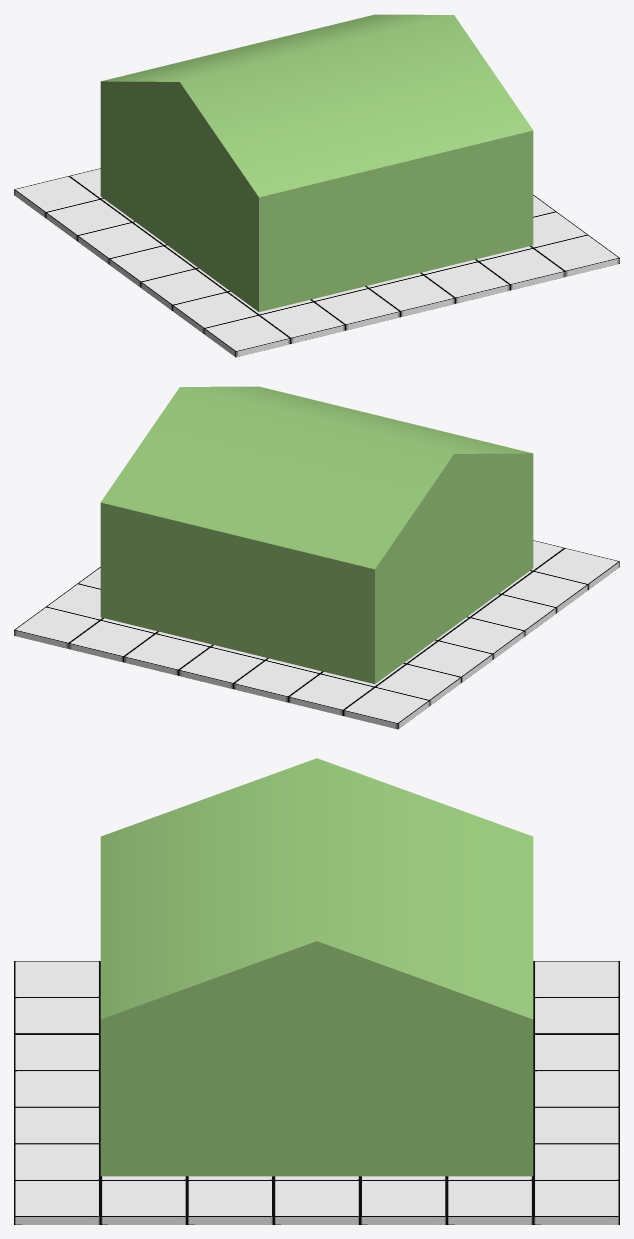
The model's file is XG_Medium-barn.glb.
3 views of the same model, one above another, from view 1: azimuth 30°, elevation 25°; view 2: azimuth 150°, elevation 25°; view 3: azimuth 270°, elevation 25° (orthographic). The views are drawn at different scales.
Parts seen in each view (by area): view 1: building_5m_5m_002, 1m_base_block_2904, 1m_base_block_2887, 1m_base_block_2889, 1m_base_block_2890, 1m_base_block_2888, 1m_base_block_2897, 1m_base_block_2886, 1m_base_block_2901, 1m_base_block_2898, 1m_base_block_2899, 1m_base_block_2903 (+4 smaller); view 2: building_5m_5m_002, 1m_base_block_2903, 1m_base_block_2882, 1m_base_block_2884, 1m_base_block_2885, 1m_base_block_2883, 1m_base_block_2896, 1m_base_block_2881, 1m_base_block_2899, 1m_base_block_2902, 1m_base_block_2901, 1m_base_block_2904 (+4 smaller); view 3: building_5m_5m_002, 1m_base_block_2893, 1m_base_block_2891, 1m_base_block_2892, 1m_base_block_2894, 1m_base_block_2895, 1m_base_block_2896, 1m_base_block_2897, 1m_base_block_2881, 1m_base_block_2883, 1m_base_block_2886, 1m_base_block_2888 (+8 smaller).
Boxes of the visible parts, x1,y1,x2,y2 form: building_5m_5m_002: [100, 14, 533, 312]; 1m_base_block_2904: [204, 315, 290, 357]; 1m_base_block_2887: [424, 261, 510, 303]; 1m_base_block_2889: [314, 288, 400, 330]; 1m_base_block_2890: [259, 302, 345, 343]; 1m_base_block_2888: [369, 275, 455, 317]; 1m_base_block_2897: [533, 235, 619, 276]; 1m_base_block_2886: [479, 248, 564, 290]; 1m_base_block_2901: [140, 269, 226, 310]; 1m_base_block_2898: [45, 199, 131, 240]; 1m_base_block_2899: [77, 222, 163, 264]; 1m_base_block_2903: [14, 176, 100, 217]; building_5m_5m_002: [100, 386, 533, 684]; 1m_base_block_2903: [343, 687, 429, 729]; 1m_base_block_2882: [123, 633, 209, 675]; 1m_base_block_2884: [233, 660, 319, 702]; 1m_base_block_2885: [288, 674, 374, 715]; 1m_base_block_2883: [178, 647, 264, 689]; 1m_base_block_2896: [14, 607, 100, 648]; 1m_base_block_2881: [69, 620, 154, 662]; 1m_base_block_2899: [407, 641, 493, 682]; 1m_base_block_2902: [502, 571, 588, 612]; 1m_base_block_2901: [470, 594, 556, 636]; 1m_base_block_2904: [533, 548, 619, 589]; building_5m_5m_002: [100, 758, 533, 1176]; 1m_base_block_2893: [273, 1180, 360, 1224]; 1m_base_block_2891: [447, 1180, 533, 1224]; 1m_base_block_2892: [360, 1180, 446, 1224]; 1m_base_block_2894: [187, 1180, 273, 1224]; 1m_base_block_2895: [100, 1180, 186, 1224]; 1m_base_block_2896: [533, 1180, 619, 1224]; 1m_base_block_2897: [14, 1180, 100, 1224]; 1m_base_block_2881: [533, 1143, 619, 1180]; 1m_base_block_2883: [533, 1070, 619, 1107]; 1m_base_block_2886: [14, 1143, 100, 1180]; 1m_base_block_2888: [14, 1070, 100, 1107].
Size of the model in its own units: 7 by 3.15 by 7.
Materials: 2 (1 with a texture image).
